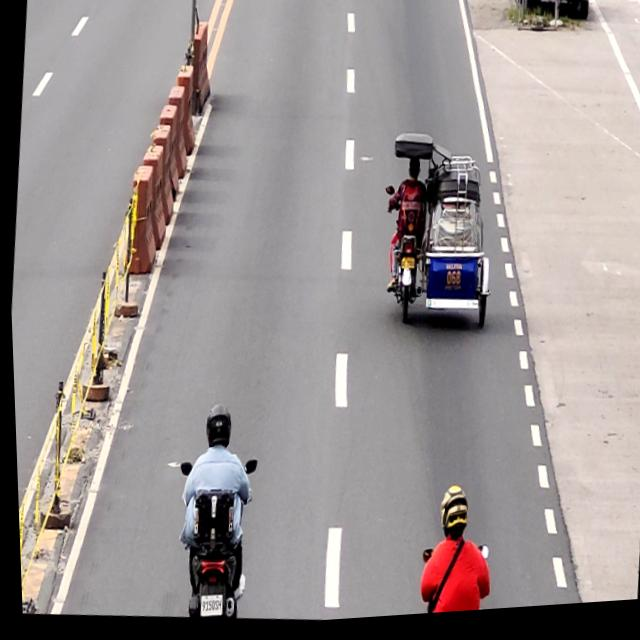License-Plate: (194, 598, 218, 621), (398, 262, 413, 275)
Motorcycle: (165, 455, 257, 625)
Tricycle: (370, 131, 502, 343)
